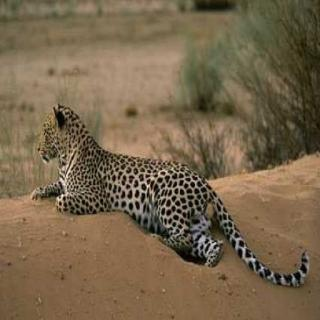Leopard: (25, 88, 291, 294)
